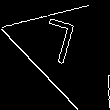L_S: (41, 17, 85, 74)
